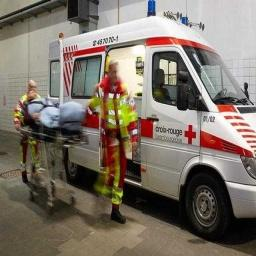Ambulance: (49, 16, 255, 238)
